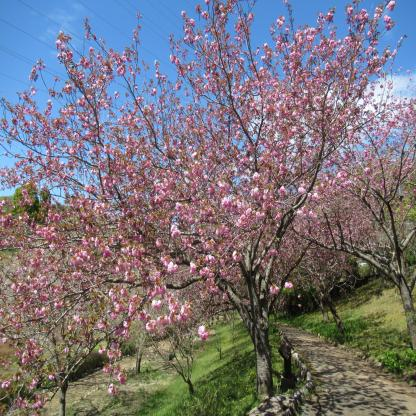YaeSakura: (0, 0, 393, 416), (310, 94, 416, 328), (312, 182, 358, 305), (288, 198, 334, 318)
